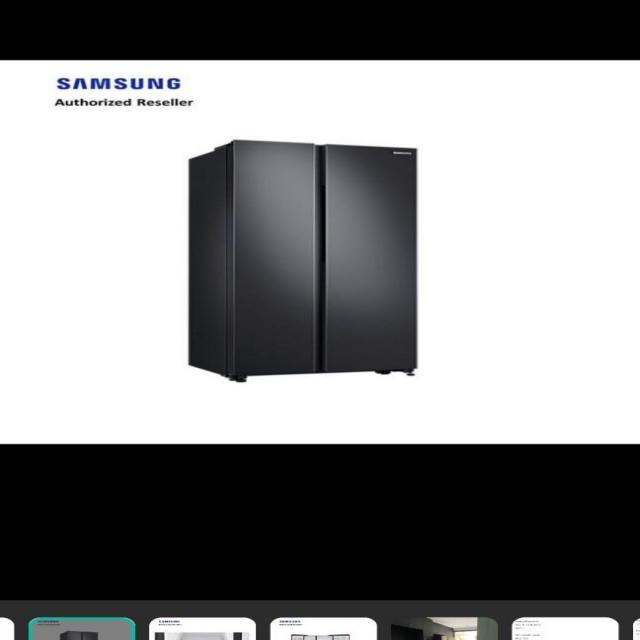refrigerator: (217, 140, 418, 379)
